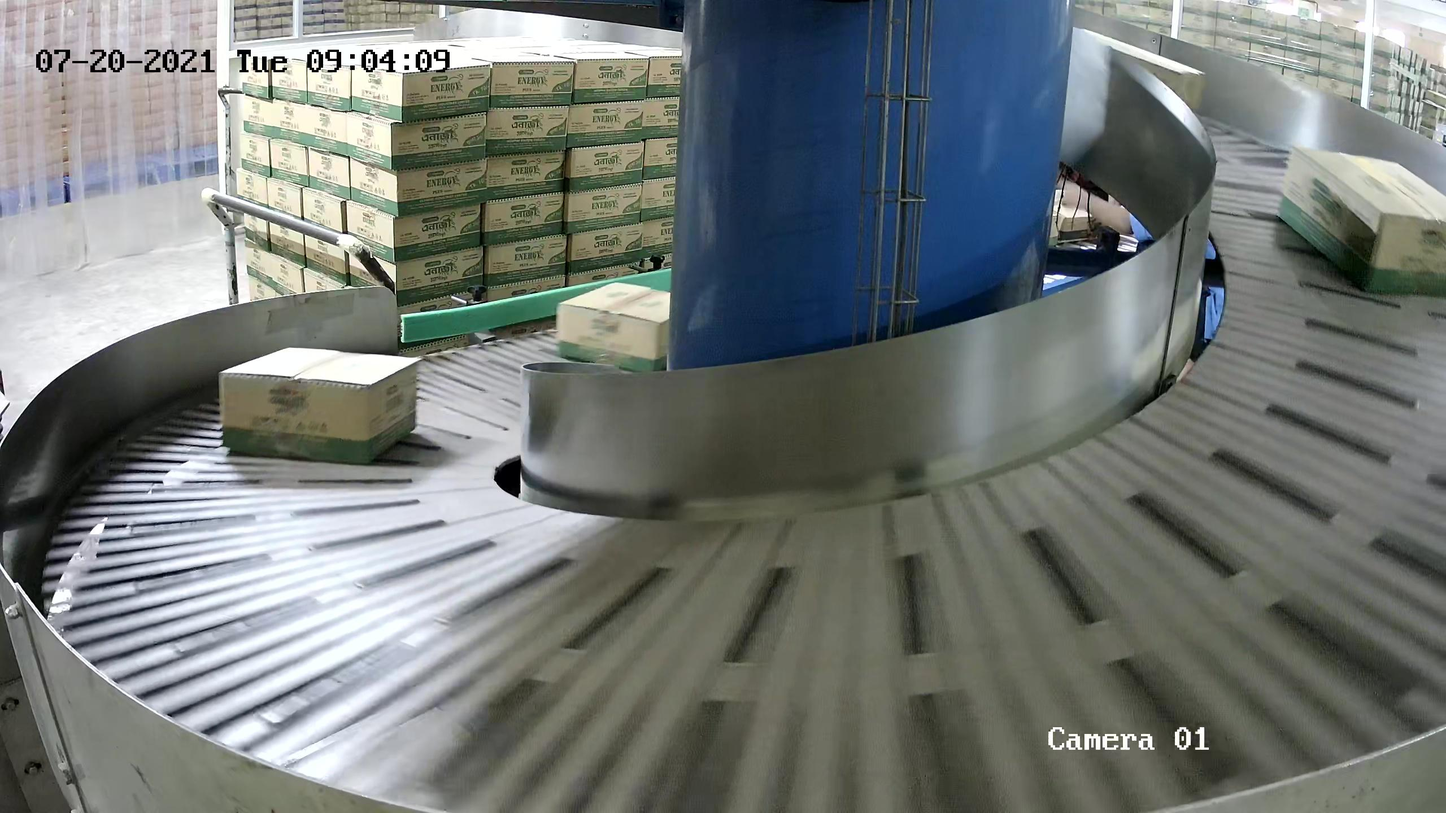Box: (1276, 143, 1446, 294), (216, 345, 423, 465), (554, 280, 671, 371)
